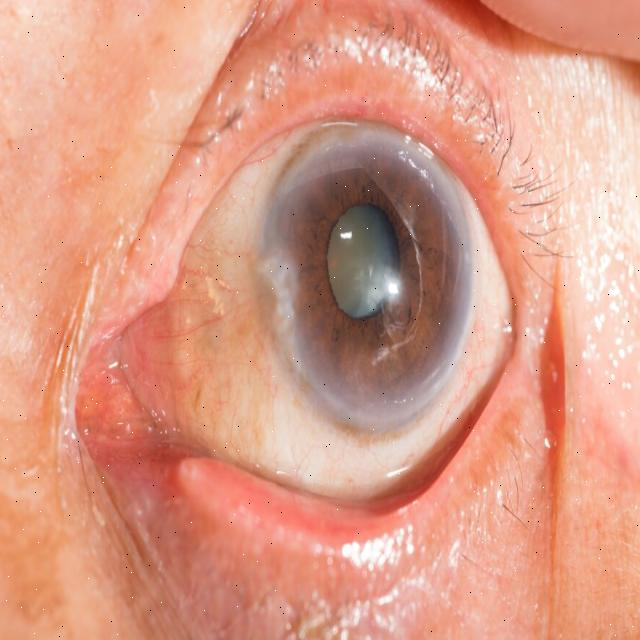Cataract: (254, 116, 475, 448)
